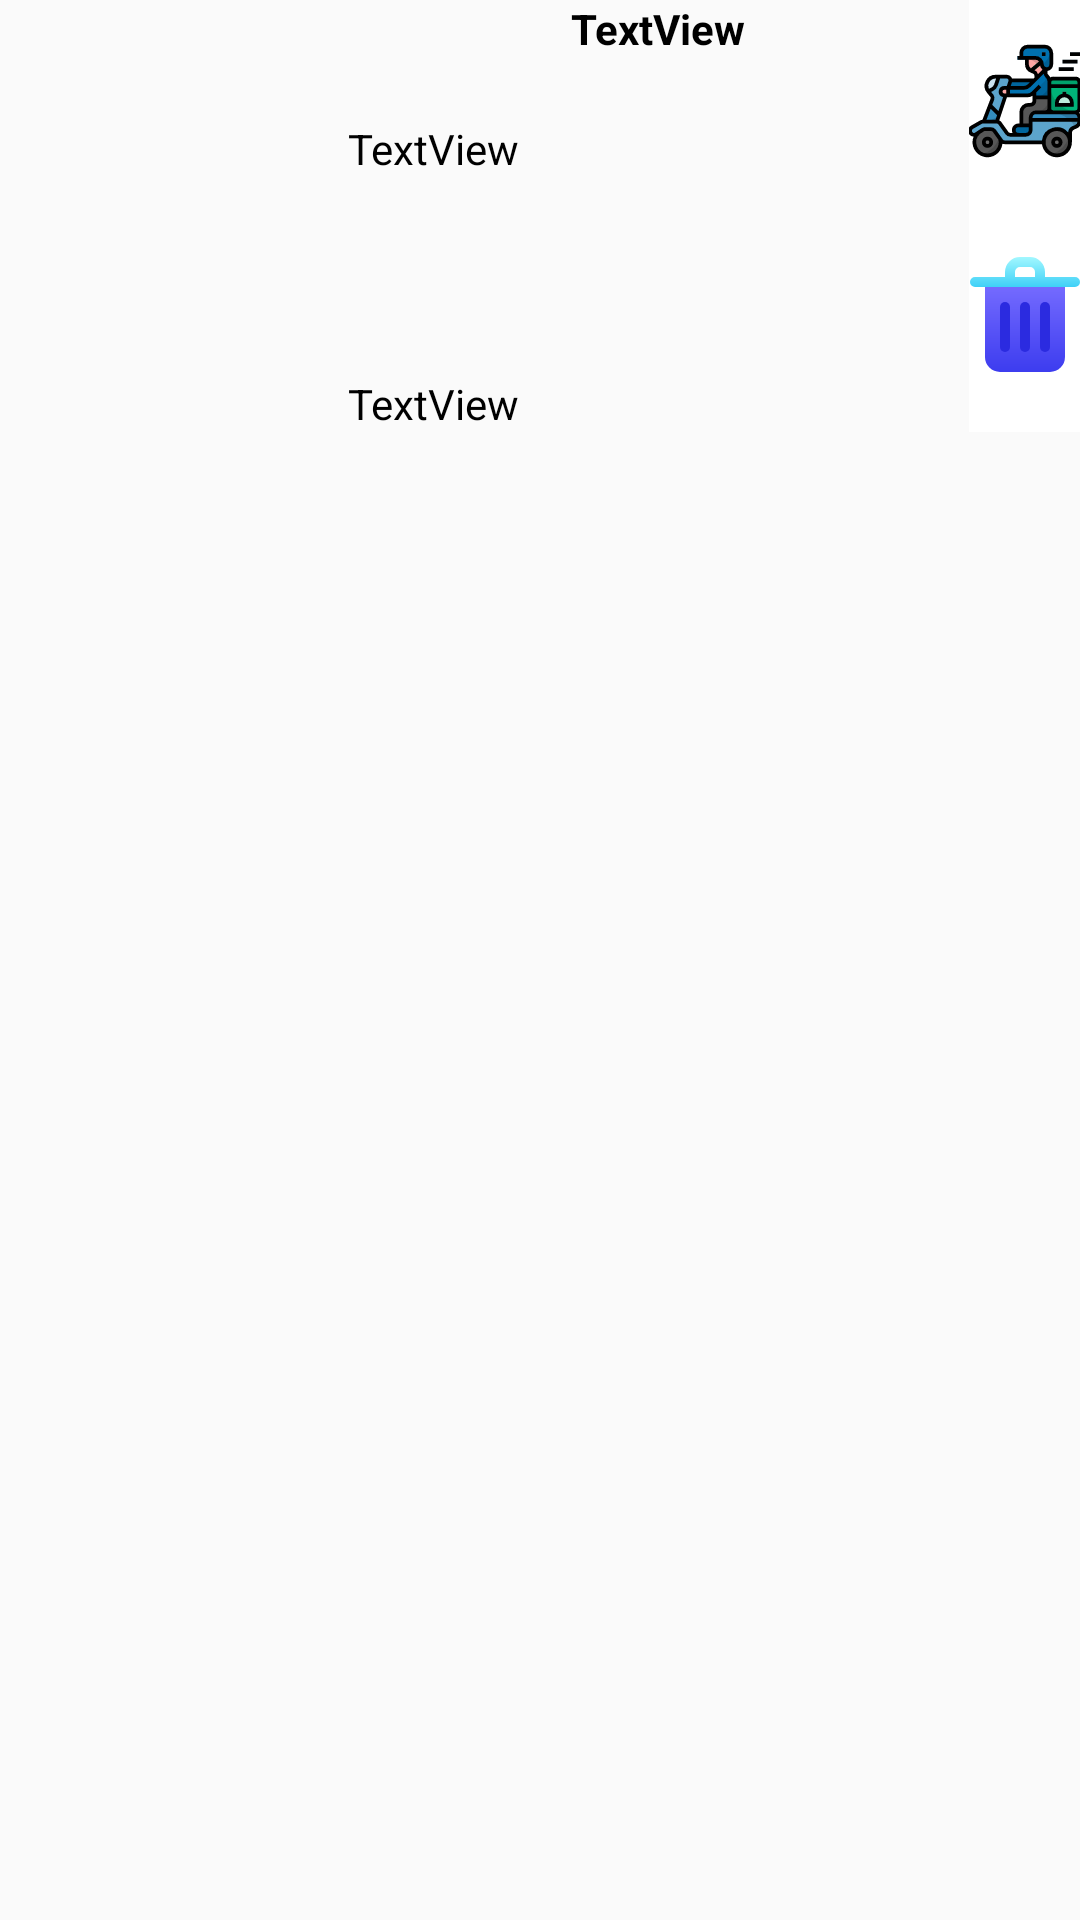

Screen size 1080 × 1920. Icon name, then its center in pixels as point (x, y):
delete: point (1025, 314)
